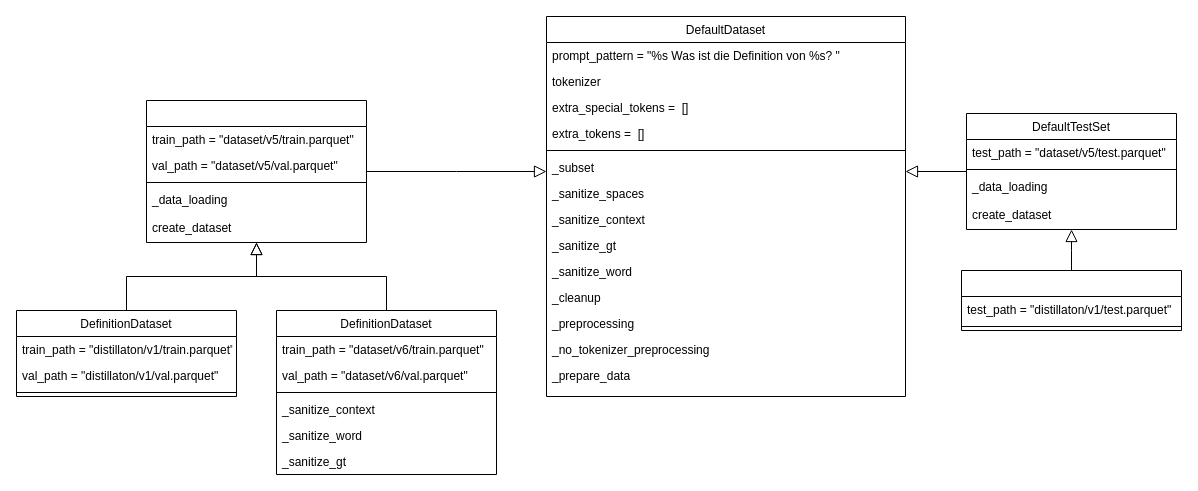
This 1198x491 diagram has some shape labels left out. Each missing label, with the box of its shape:
DefaultTrainValSet: (146, 100, 366, 242)
DefinitionTestSet: (960, 270, 1182, 330)
